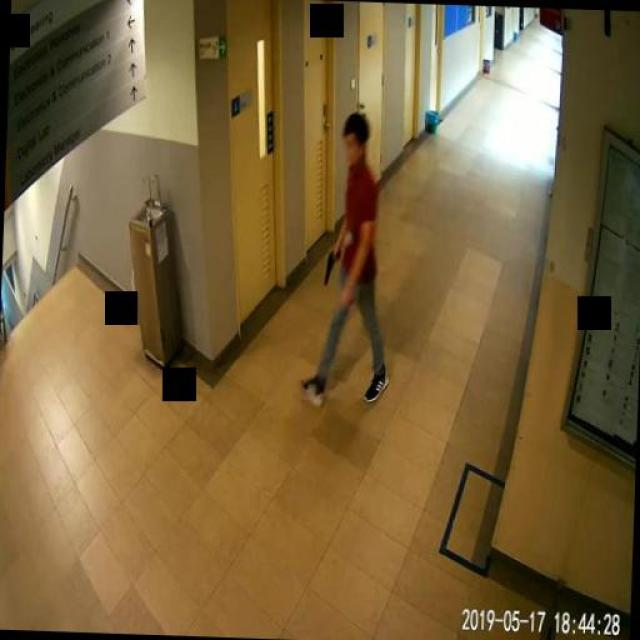gun: (322, 244, 338, 284)
